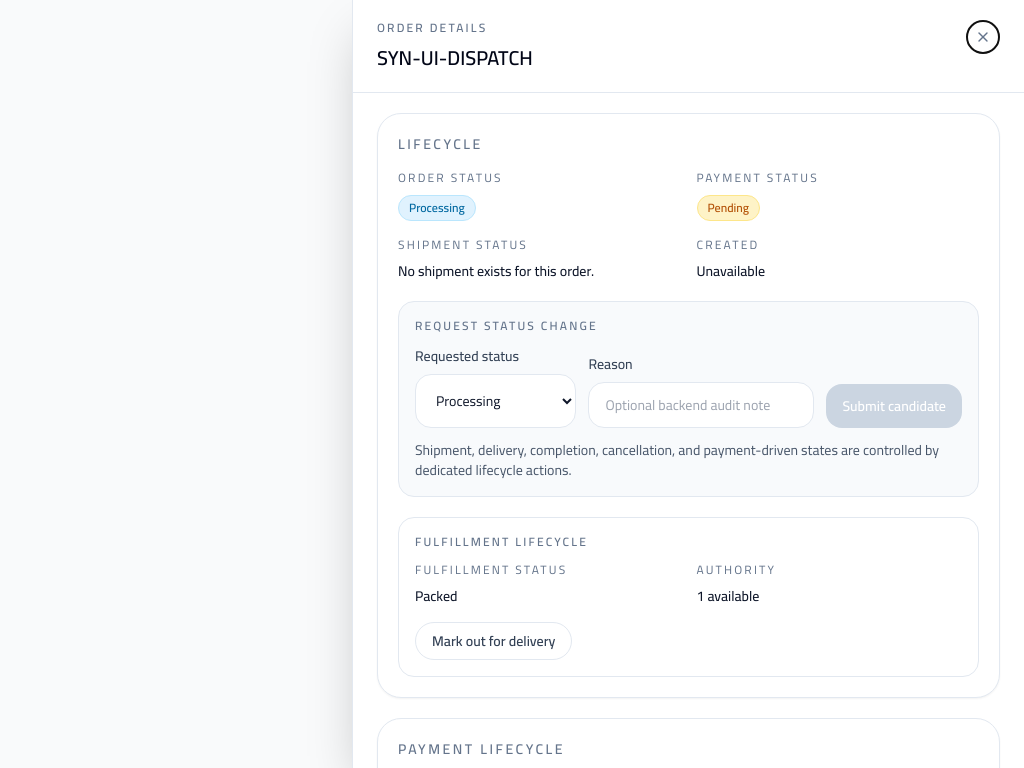
Test: Manual order drawer dispatch › survives the order-reset effect and submits only original-shipment-bound tracking
Later steps or results of the test are not shown.
Click the button "Mark out for delivery" at (494, 641), box [415,622,572,660]
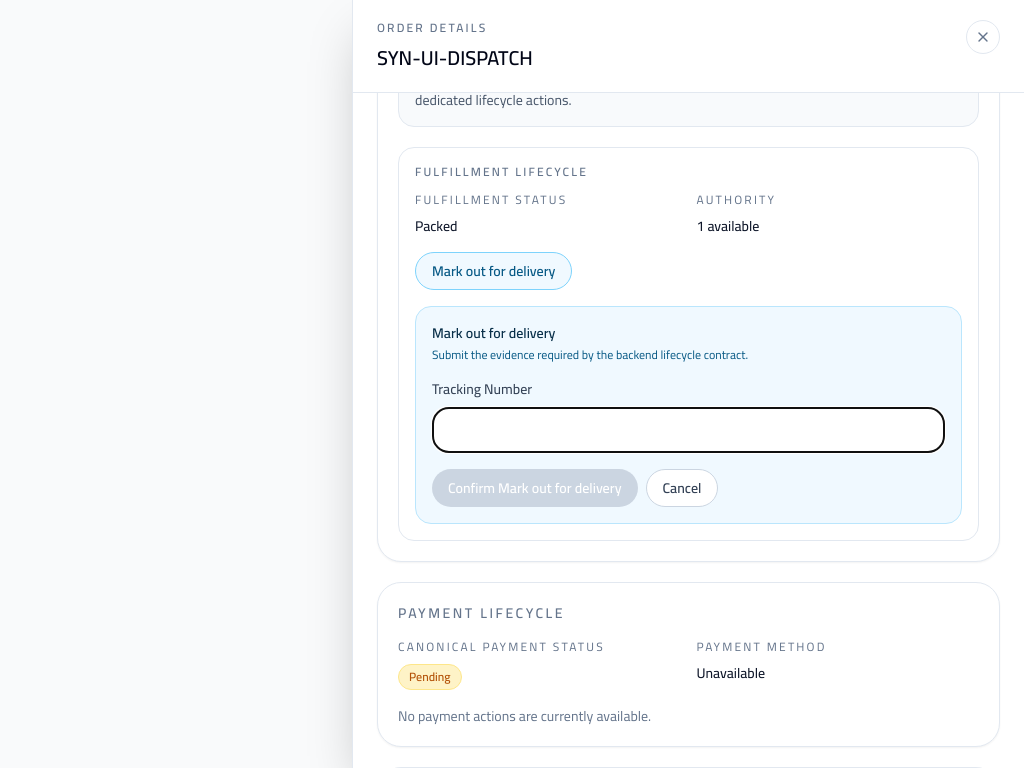
Now the button "Confirm Mark out for delivery" is disabled, box [432,469,638,507]
Type " SYN-TRACK " into the field labelled "Tracking Number" at (688, 430), box [432,407,945,453]
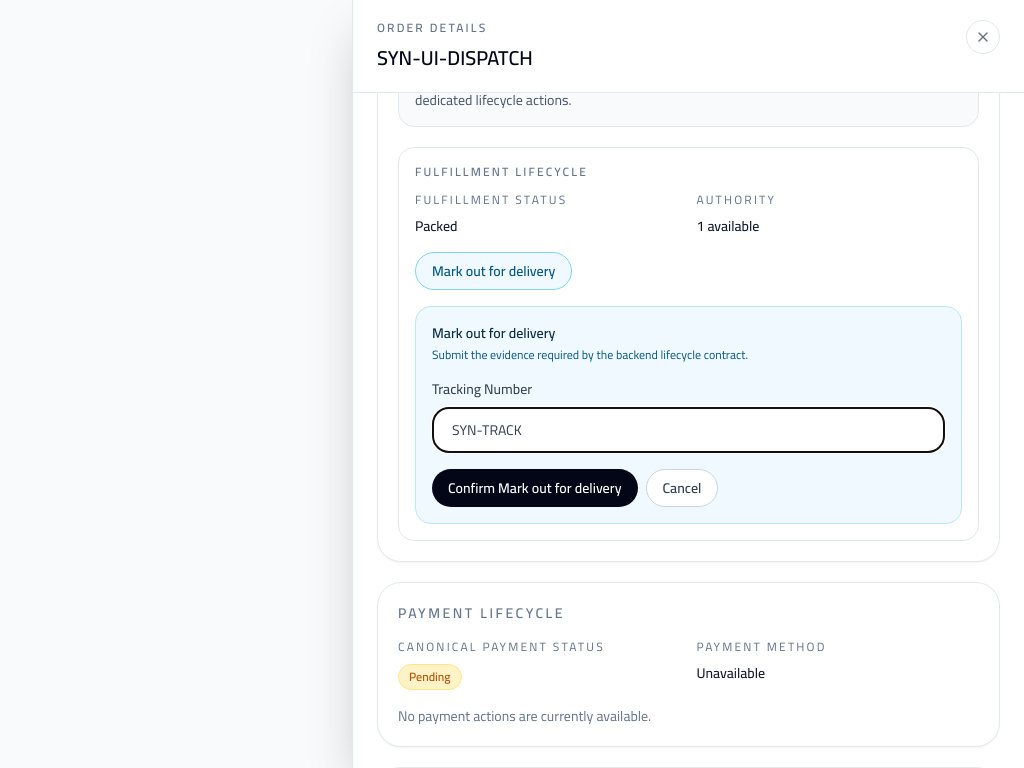
Now the button "Confirm Mark out for delivery" is enabled, box [432,469,638,507]
